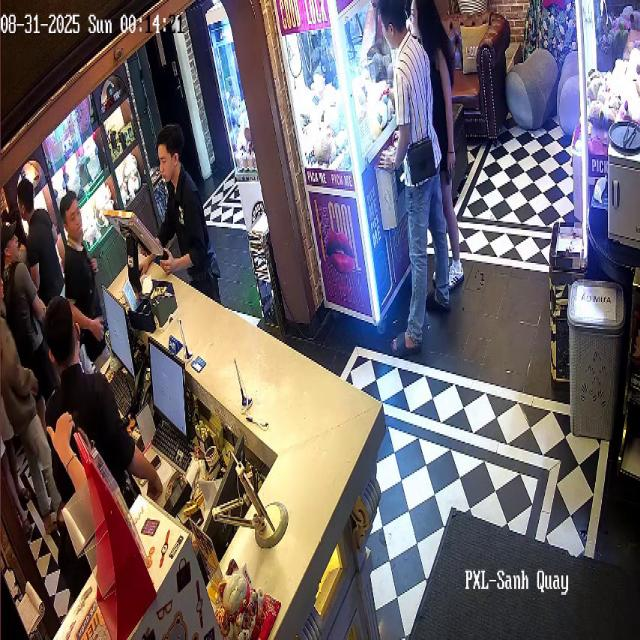khach: (372, 1, 450, 358), (408, 1, 463, 293), (0, 307, 49, 529), (60, 179, 106, 352), (2, 224, 50, 380), (15, 178, 55, 302)
nhan vien: (40, 293, 145, 536), (154, 124, 221, 307)
